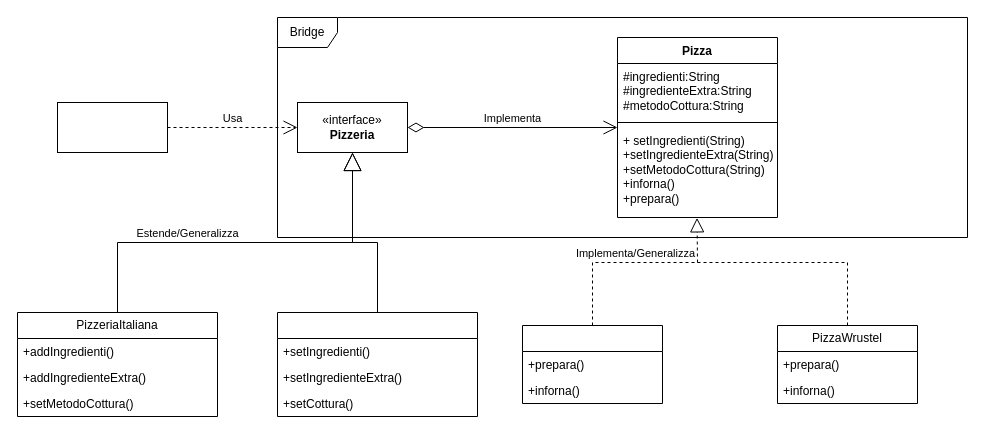
Image size: 985x437. Some labels were removed from this diagram. The shapes that lost their labels are listed below. From the top down, each one's box as (x1, y1, x2, y2) in pixels, then its label:
(56, 102, 168, 152): Cliente
(276, 312, 478, 416): PizzeriaAmericana
(522, 324, 662, 404): PizzaCaprese
